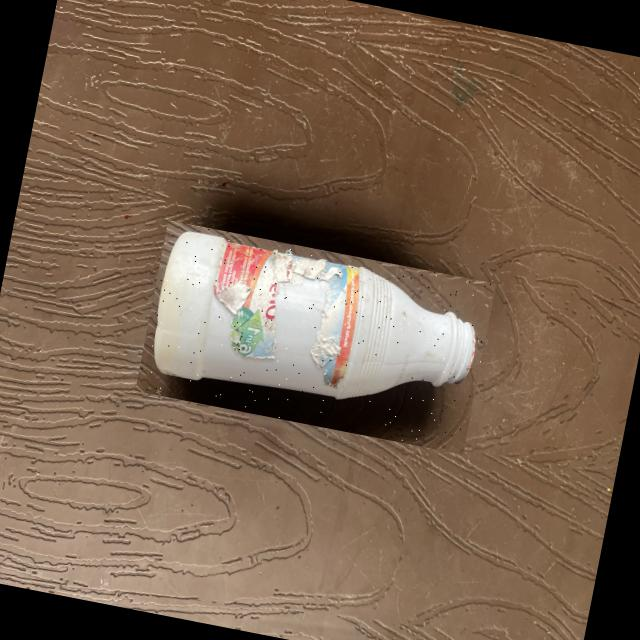REJECT: (134, 219, 496, 454)
